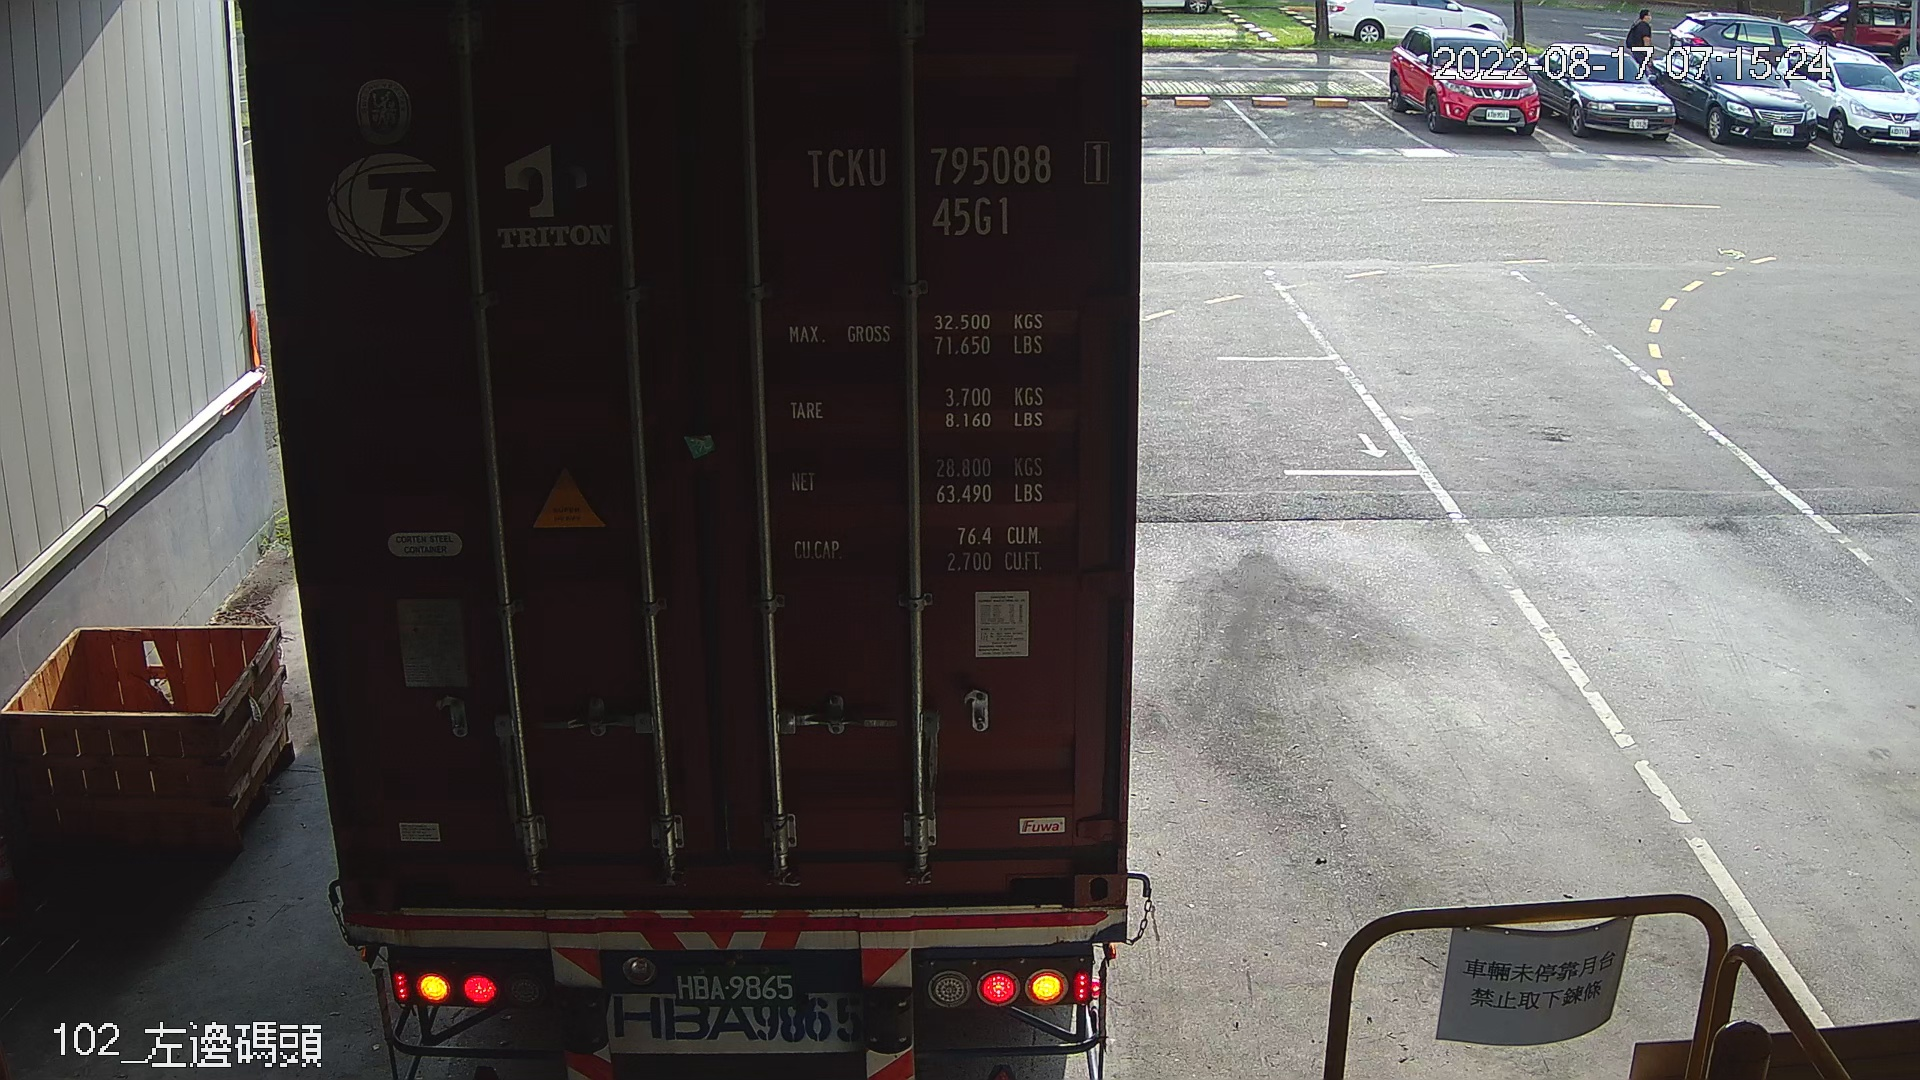container: (793, 132, 1126, 244)
